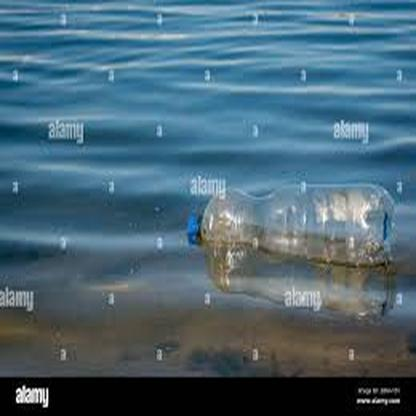plastic bottle: (186, 185, 394, 267)
